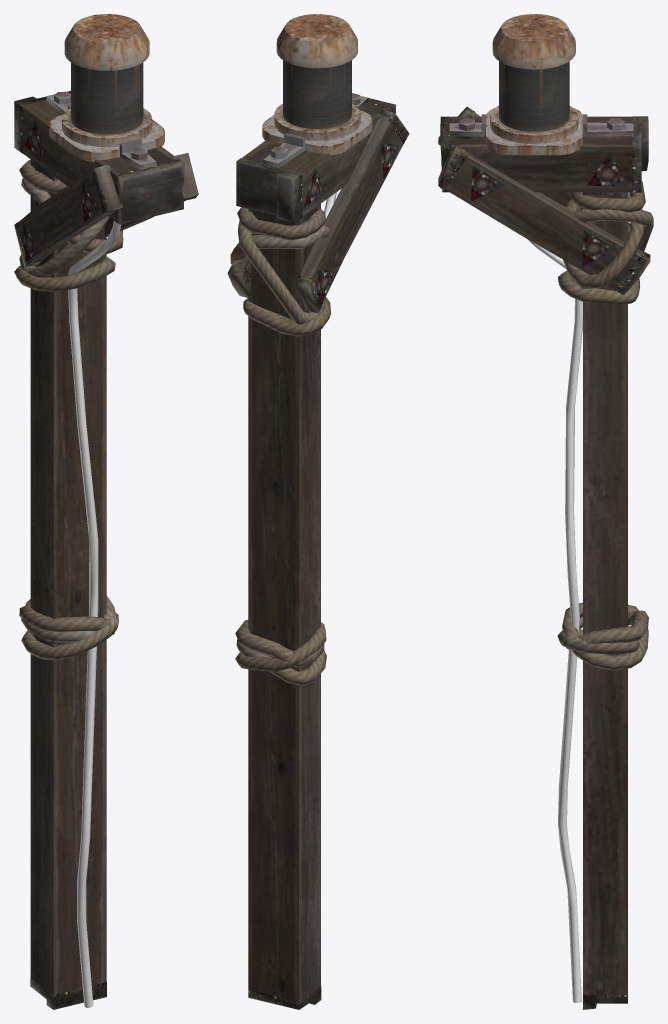
Rendered from dock_light_a.glb.
3 views of the same model, side by side, from view 1: azimuth 30°, elevation 25°; view 2: azimuth 150°, elevation 25°; view 3: azimuth 270°, elevation 25° (orthographic). The views are drawn at different scales.
Parts seen in each view (by area): view 1: dock_light_a_LOD0; view 2: dock_light_a_LOD0; view 3: dock_light_a_LOD0.
Boxes of the visible parts, box(x1,y1,x2,y2) form: dock_light_a_LOD0: box(14, 14, 198, 1009); dock_light_a_LOD0: box(227, 14, 409, 1009); dock_light_a_LOD0: box(438, 14, 653, 1009).
Bounding box in the file's own units: 0.2424 × 2.38 × 0.4784.
Materials: 3 (2 with a texture image).
